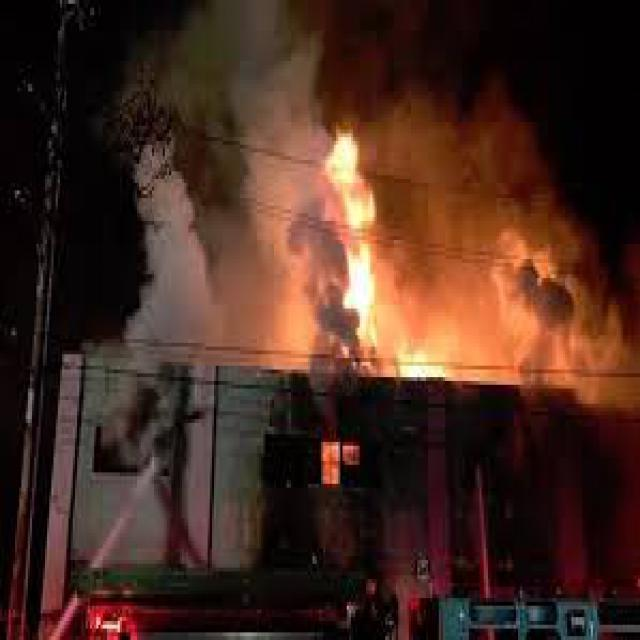Fire: (281, 128, 607, 532)
Smoke: (114, 34, 256, 374), (278, 15, 613, 118)
